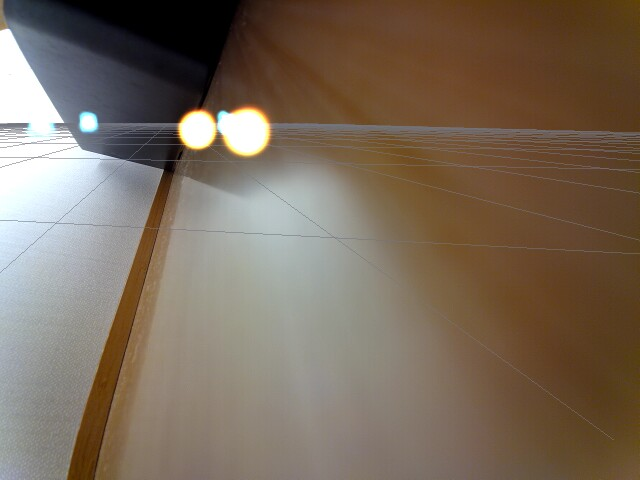firebig: (219, 104, 277, 162)
